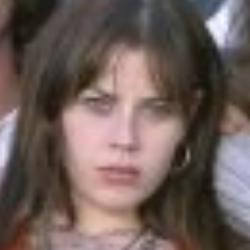face: (12, 4, 231, 242)
